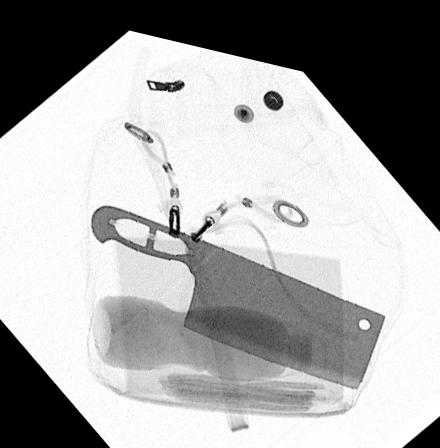Knife: (85, 196, 386, 373)
